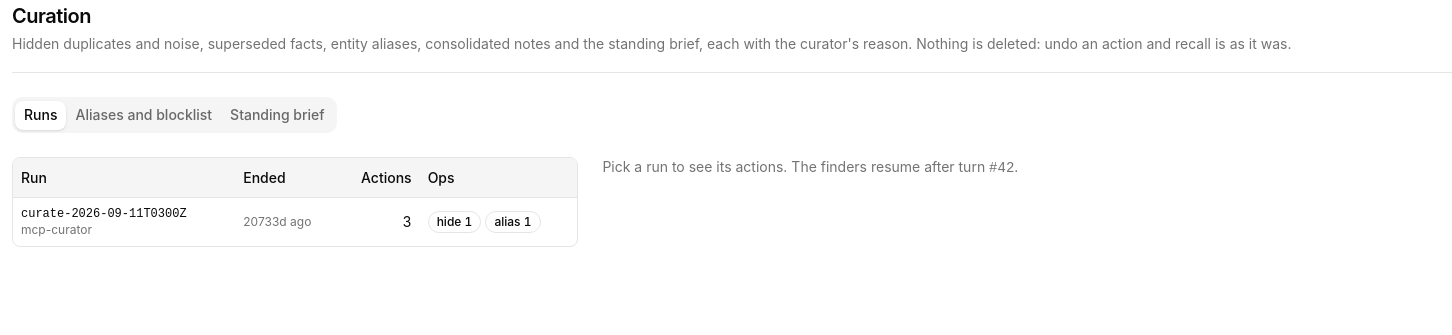
Test: CurationPage › shows the standing brief of the chosen scope
This screenshot has width=1452, height=335.
What coordinates should you click on to do the following:
click the tab "Standing brief"
I would click on:
 (277, 115)
Its box is [221,100,334,130].
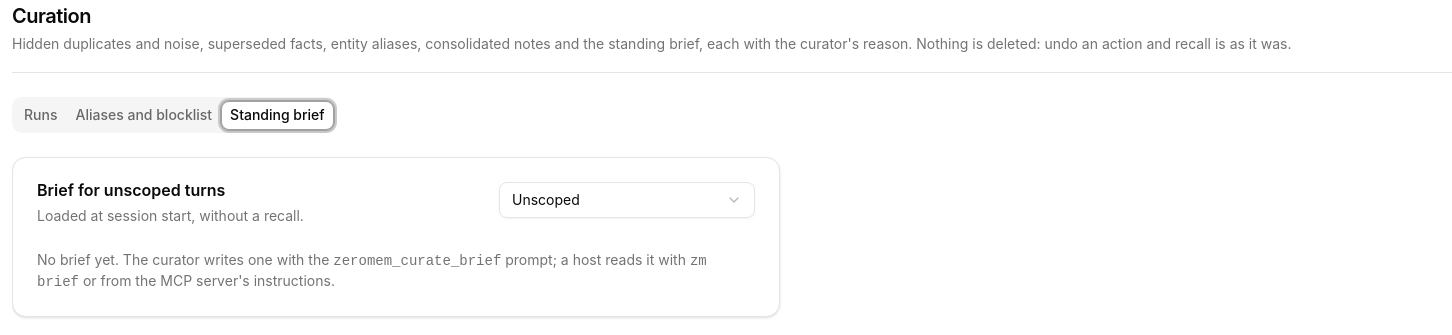
Now the text "No brief yet" is shown, box [37,251,115,268]
What coordinates should you click on to do the following:
click the dropdown labelled "scope"
I would click on:
 (627, 200)
Its box is [499,182,755,218].
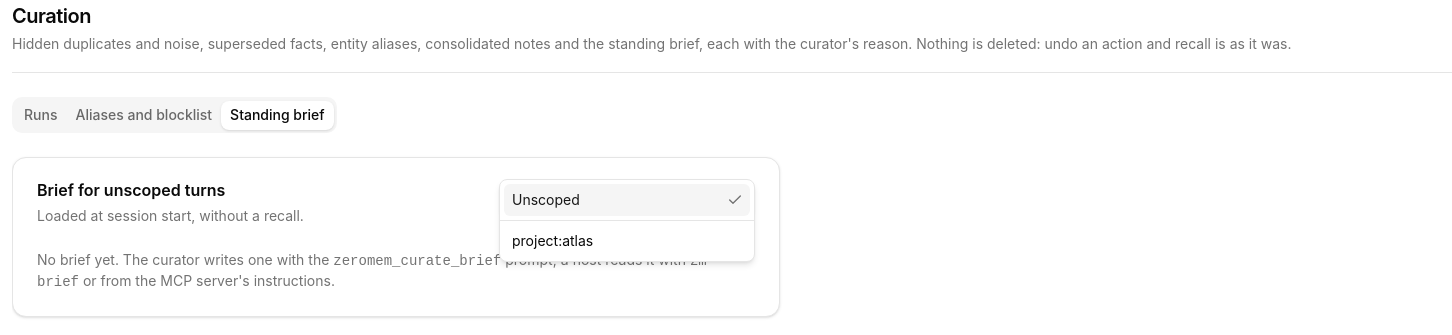
What coordinates should you click on to do the following:
click the option "project:atlas"
I would click on:
 (553, 240)
Its box is [512,232,593,249].
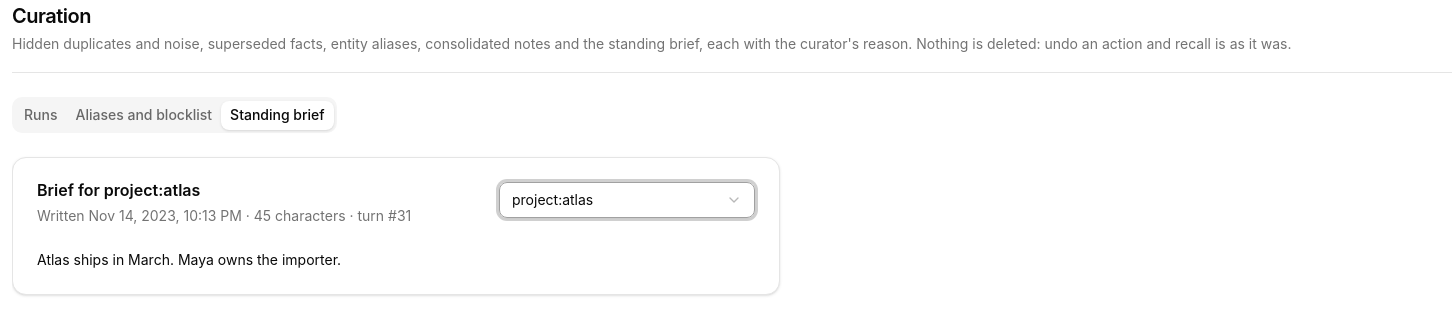
Now the text "Atlas ships in March. Maya owns the importer." is shown, box [37,251,341,268]
